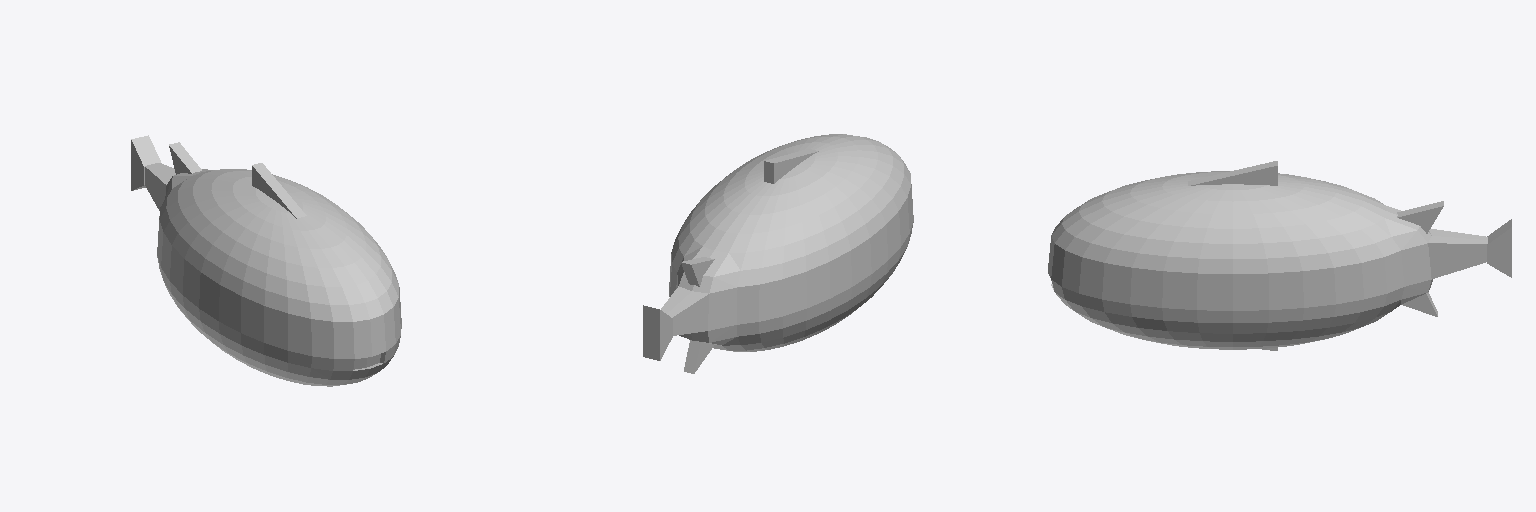
The model's file is mob.obj.
3 views of the same model, side by side, from view 1: azimuth 30°, elevation 25°; view 2: azimuth 150°, elevation 25°; view 3: azimuth 270°, elevation 25° (orthographic).
Visible parts, largest first — view 1: 球; view 2: 球; view 3: 球.
Part boxes in pixels (x1,y1,x2,y2): 球: (131, 135, 401, 386); 球: (643, 134, 913, 373); 球: (1048, 161, 1511, 350).
Bounding box in the file's own units: 0.9902 × 1.1 × 2.48.